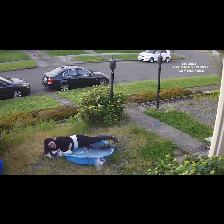person: (44, 135, 118, 156)
